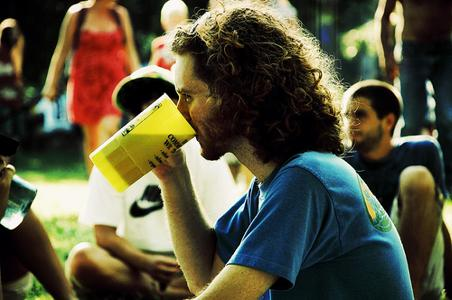person: (135, 5, 417, 300)
